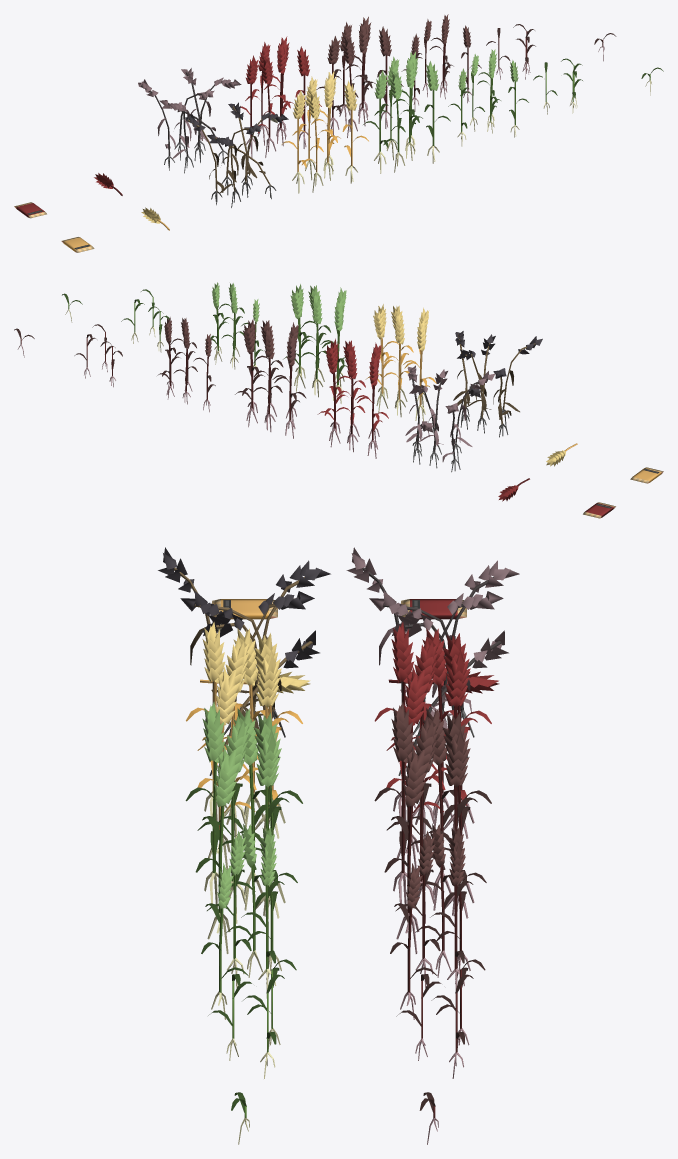
Rendered from Wheat Plants.fbx.
3 views of the same model, one above another, from view 1: azimuth 30°, elevation 25°; view 2: azimuth 150°, elevation 25°; view 3: azimuth 270°, elevation 25° (orthographic). The views are drawn at different scales.
Parts seen in each view (by area): view 1: Wheat Stage 4, Wheat Mature, Meat Wheat Mature, Meat Wheat Stage 4, Wheat Dead, Meat Wheat Dead, Wheat Stage 3, Meat Wheat Stage 3, Wheat Stage 2, Meat Wheat Stage 2; view 2: Meat Wheat Stage 4, Meat Wheat Mature, Wheat Mature, Wheat Stage 4, Meat Wheat Dead, Wheat Dead, Meat Wheat Stage 3, Wheat Stage 3, Wheat Stage 2, Meat Wheat Stage 2; view 3: Wheat Stage 4, Meat Wheat Stage 4, Meat Wheat Mature, Wheat Mature, Meat Wheat Dead, Wheat Dead, Meat Wheat Stage 3, Wheat Stage 3, Meat Wheat Stage 2, Wheat Stage 2, Seed Packet Meat Wheat.
Boxes of the visible parts, x1,y1,x2,y2 form: Wheat Stage 4: [363, 51, 450, 173]; Wheat Mature: [281, 71, 368, 193]; Meat Wheat Mature: [240, 36, 321, 157]; Meat Wheat Stage 4: [316, 16, 403, 137]; Wheat Dead: [185, 102, 288, 207]; Meat Wheat Dead: [138, 68, 241, 173]; Wheat Stage 3: [448, 49, 528, 146]; Meat Wheat Stage 3: [401, 14, 481, 111]; Wheat Stage 2: [533, 58, 582, 114]; Meat Wheat Stage 2: [486, 24, 535, 79]; Meat Wheat Stage 4: [235, 319, 306, 438]; Meat Wheat Mature: [317, 338, 388, 458]; Wheat Mature: [365, 304, 436, 421]; Wheat Stage 4: [283, 284, 347, 403]; Meat Wheat Dead: [405, 365, 494, 472]; Wheat Dead: [453, 331, 542, 437]; Meat Wheat Stage 3: [157, 317, 215, 412]; Wheat Stage 3: [205, 282, 262, 375]; Wheat Stage 2: [121, 289, 169, 352]; Meat Wheat Stage 2: [74, 324, 122, 387]; Wheat Stage 4: [185, 701, 302, 953]; Meat Wheat Stage 4: [374, 702, 491, 953]; Meat Wheat Mature: [374, 622, 491, 869]; Wheat Mature: [186, 622, 302, 869]; Meat Wheat Dead: [346, 547, 519, 775]; Wheat Dead: [158, 547, 330, 775]; Meat Wheat Stage 3: [390, 823, 486, 1019]; Wheat Stage 3: [201, 824, 297, 1019]; Meat Wheat Stage 2: [396, 959, 485, 1078]; Wheat Stage 2: [208, 959, 296, 1078]; Seed Packet Meat Wheat: [401, 599, 466, 619].
Size of the model in its own units: 7.23 by 1.29 by 1.92.
